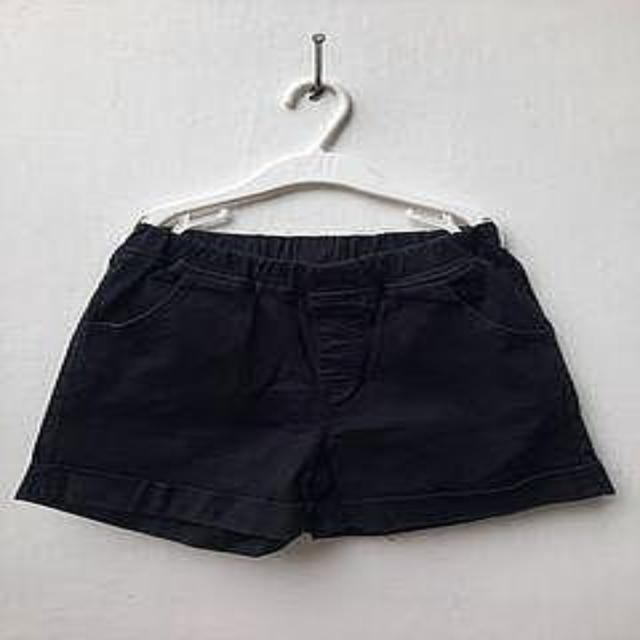SHORT: (9, 213, 620, 564)
